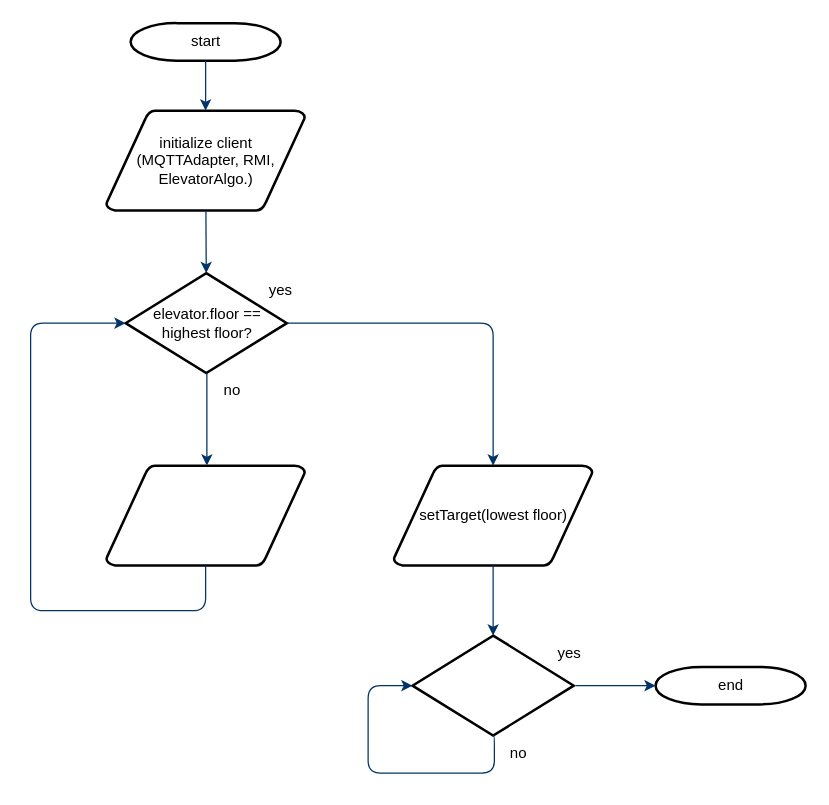
Some shapes in this 829 by 805 pixel diagram are drawn without their labels. The shapes that lost their labels are listed below. From the top down, each one's centre as x and y in pixels, then its label:
pixel 205 515: setTarget(next floor)
pixel 492 685: elevator.floor == lowest floor?
